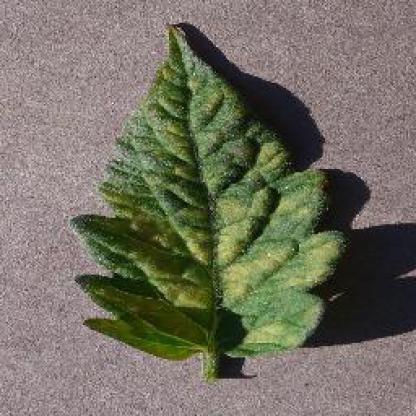bad leaf: (108, 34, 309, 325), (32, 171, 341, 309), (101, 220, 316, 388), (102, 2, 266, 214)
